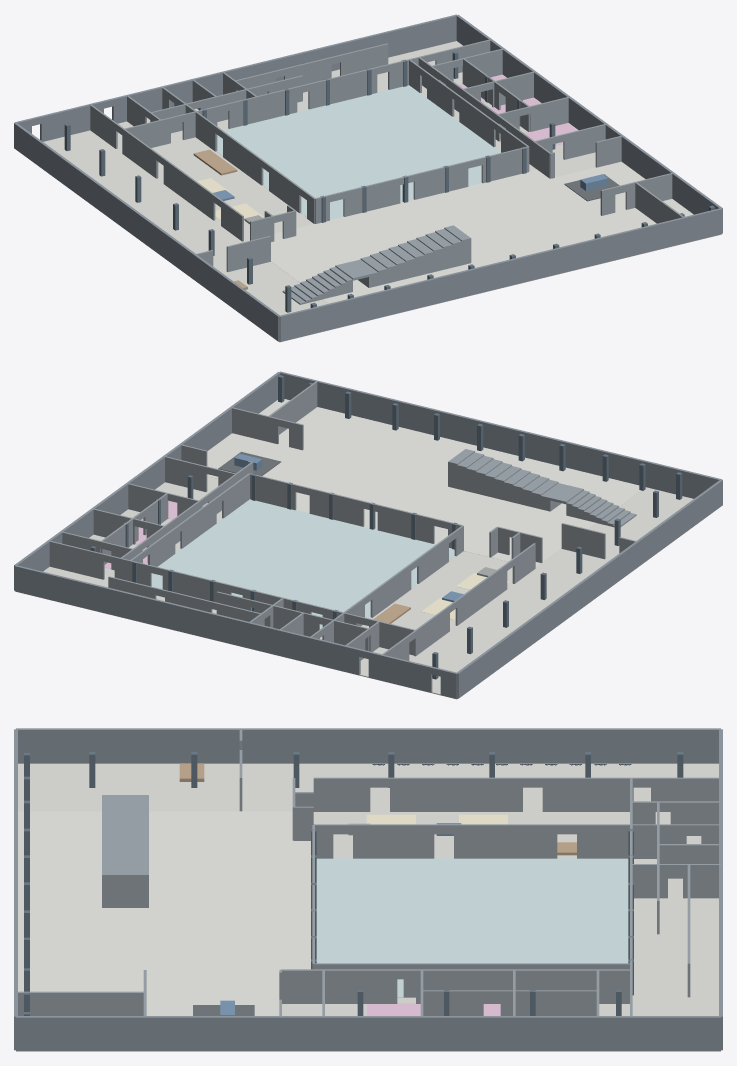
Rendered from floor02.glb.
The picture shows the model from 3 angles, top to bottom: view 1: azimuth 30°, elevation 25°; view 2: azimuth 150°, elevation 25°; view 3: azimuth 270°, elevation 25°; orthographic projection. The views are drawn at different scales.
Parts seen in each view (by area): view 1: Arch_Room_South_lobby, Arch_Room_MainHall_zone, Arch_Floor_plate, Arch_Wall_F2_outer_south, Arch_Wall_F2_outer_west, Arch_Wall_F2_outer_north.002, Arch_Wall_F2_outer_east, Arch_Room_SE_lobby, Arch_Wall_F2_hall_north.002, Arch_Wall_F2_hall_north.001, Arch_Wall_F2_hall_south.001, Arch_Wall_F2_corridor_west.001 (+28 smaller); view 2: Arch_Room_South_lobby, Arch_Room_MainHall_zone, Arch_Floor_plate, Arch_Wall_F2_outer_south, Arch_Wall_F2_outer_north.002, Arch_Wall_F2_outer_west, Arch_Wall_F2_outer_east, Arch_Room_SE_lobby, Arch_Wall_F2_outer_north.001, Arch_Wall_F2_service_south_right.001, Arch_Wall_F2_hall_south.001, Arch_Wall_F2_corridor_west.001 (+25 smaller); view 3: Arch_Room_South_lobby, Arch_Floor_plate, Arch_Room_MainHall_zone, Arch_Wall_F2_outer_west, Arch_Wall_F2_outer_east, Arch_Wall_F2_corridor_west.001, Arch_Wall_F2_east_corridor, Arch_Wall_F2_hall_west.002, Arch_Wall_F2_east_corridor.001, Arch_Wall_F2_corridor_west.002, Arch_Wall_F2_se_v_1, Arch_Wall_F2_hall_west.001 (+24 smaller).
Part boxes in pixels (<box>): Arch_Room_South_lobby: <box>243,169,622,303</box>; Arch_Room_MainHall_zone: <box>216,85,500,219</box>; Arch_Floor_plate: <box>43,41,720,342</box>; Arch_Wall_F2_outer_south: <box>279,208,722,341</box>; Arch_Wall_F2_outer_west: <box>14,123,279,341</box>; Arch_Wall_F2_outer_north.002: <box>112,14,456,123</box>; Arch_Wall_F2_outer_east: <box>456,14,722,233</box>; Arch_Room_SE_lobby: <box>551,162,692,231</box>; Arch_Wall_F2_hall_north.002: <box>308,67,377,109</box>; Arch_Wall_F2_hall_north.001: <box>228,87,297,128</box>; Arch_Wall_F2_hall_south.001: <box>343,178,400,216</box>; Arch_Wall_F2_corridor_west.001: <box>163,158,215,220</box>; Arch_Room_South_lobby: <box>266,415,640,567</box>; Arch_Room_MainHall_zone: <box>151,499,455,628</box>; Arch_Floor_plate: <box>16,400,693,699</box>; Arch_Wall_F2_outer_south: <box>279,371,722,498</box>; Arch_Wall_F2_outer_north.002: <box>14,565,360,674</box>; Arch_Wall_F2_outer_west: <box>457,480,722,698</box>; Arch_Wall_F2_outer_east: <box>14,371,280,590</box>; Arch_Room_SE_lobby: <box>207,399,345,478</box>; Arch_Wall_F2_outer_north.001: <box>368,651,432,692</box>; Arch_Wall_F2_service_south_right.001: <box>49,540,104,579</box>; Arch_Wall_F2_hall_south.001: <box>377,505,434,543</box>; Arch_Wall_F2_corridor_west.001: <box>455,564,507,625</box>; Arch_Room_South_lobby: <box>18,811,310,1003</box>; Arch_Floor_plate: <box>16,763,720,1051</box>; Arch_Room_MainHall_zone: <box>316,858,628,997</box>; Arch_Wall_F2_outer_west: <box>16,728,720,763</box>; Arch_Wall_F2_outer_east: <box>16,1016,720,1050</box>; Arch_Wall_F2_corridor_west.001: <box>390,777,522,811</box>; Arch_Wall_F2_east_corridor: <box>280,969,397,1003</box>; Arch_Wall_F2_hall_west.002: <box>454,824,557,858</box>; Arch_Wall_F2_east_corridor.001: <box>416,969,557,1003</box>; Arch_Wall_F2_corridor_west.002: <box>542,777,633,811</box>; Arch_Wall_F2_se_v_1: <box>18,991,143,1015</box>; Arch_Wall_F2_hall_west.001: <box>353,824,434,858</box>.
Bounding box in the file's own units: 55.62 × 3.12 × 57.62.
